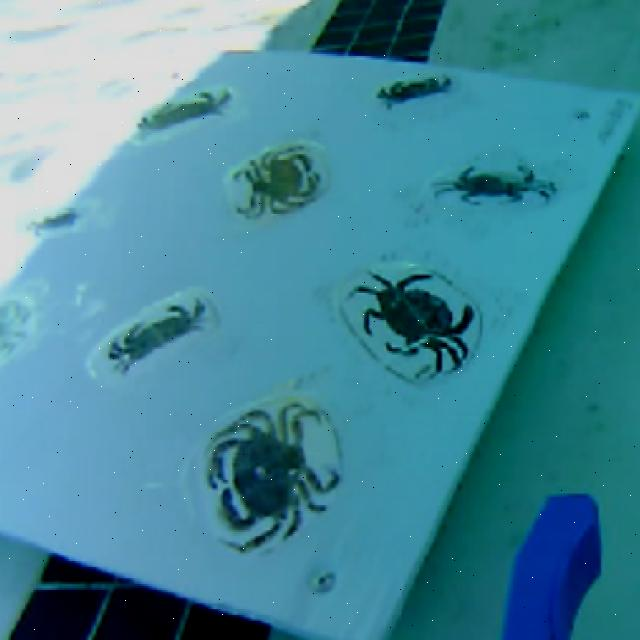green_crab: (353, 272, 474, 370), (435, 164, 555, 204), (28, 208, 78, 233)
jonah_crab: (205, 401, 340, 551), (227, 141, 328, 218), (0, 297, 33, 363)
rock_crab: (91, 287, 215, 374), (138, 91, 229, 129), (376, 75, 452, 108)
